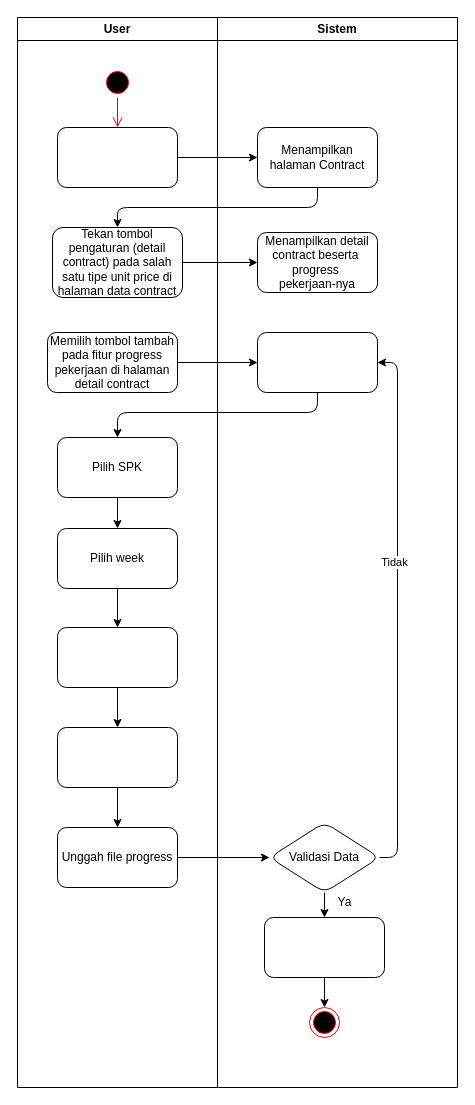
This 475x1105 diagram has some shape labels left out. The centre of each missing label's shape, as x and y in pixels:
"Masukkan actual progress (%)" goes at (x=117, y=757).
"Masukkan plan progress (%)" goes at (x=117, y=657).
"Membuka halaman Contract" goes at (x=117, y=157).
"Menampilkan formulir tambah data progress pekerjaan" goes at (x=317, y=362).
"Menyimpan data progress pekerjaan" goes at (x=324, y=947).
